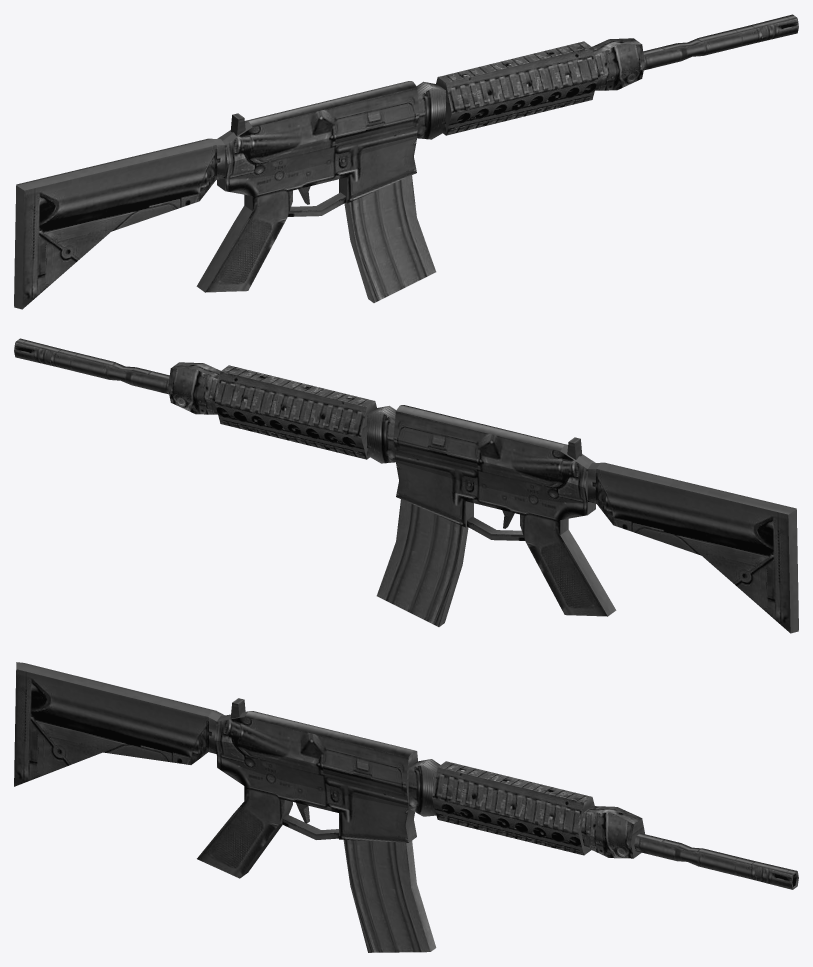
The model's file is Assault_Rifle_Simple_2.fbx.
3 views of the same model, one above another, from view 1: azimuth 30°, elevation 25°; view 2: azimuth 150°, elevation 25°; view 3: azimuth 330°, elevation 25° (orthographic).
Visible parts, largest first — view 1: Assault_Rifle_Simple_2; view 2: Assault_Rifle_Simple_2; view 3: Assault_Rifle_Simple_2.
Part boxes in pixels (left/top/right/bottom): Assault_Rifle_Simple_2: left=14, top=14, right=798, bottom=309; Assault_Rifle_Simple_2: left=14, top=338, right=798, bottom=633; Assault_Rifle_Simple_2: left=14, top=662, right=798, bottom=952.
Bounding box in the file's own units: 87.37 × 23.22 × 3.85.
